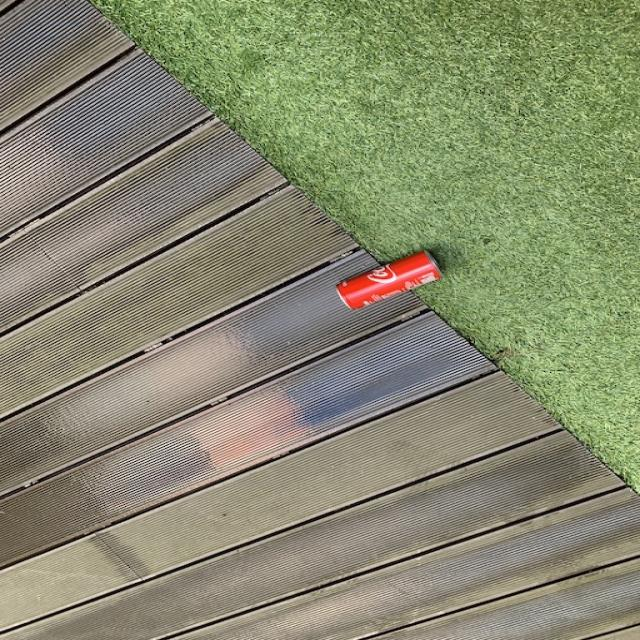litter: (342, 242, 447, 324)
